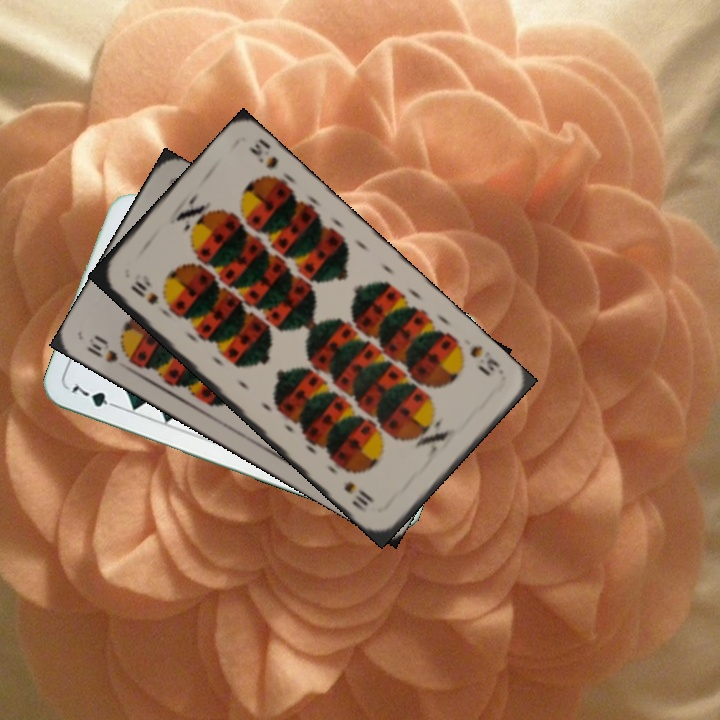G7: (67, 378, 123, 412)
S10: (465, 341, 503, 379), (83, 331, 120, 365), (126, 276, 162, 308)
